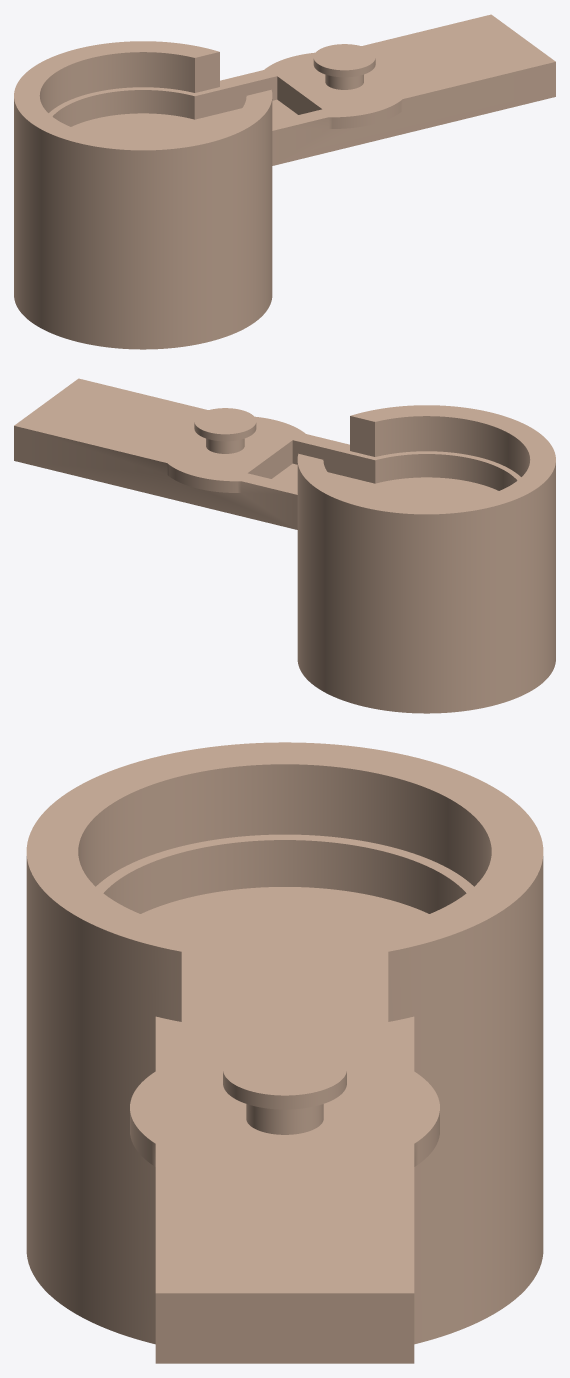
The model's file is distributor-rotor.glb.
The picture shows the model from 3 angles, top to bottom: view 1: azimuth 30°, elevation 25°; view 2: azimuth 150°, elevation 25°; view 3: azimuth 270°, elevation 25°; orthographic projection. The views are drawn at different scales.
Parts seen in each view (by area): view 1: world; view 2: world; view 3: world.
Part boxes in pixels (<box>): world: <box>14,14,555,349</box>; world: <box>14,378,555,713</box>; world: <box>26,742,543,1363</box>.
Size of the model in its own units: 0.044 by 0.017 by 0.02.
